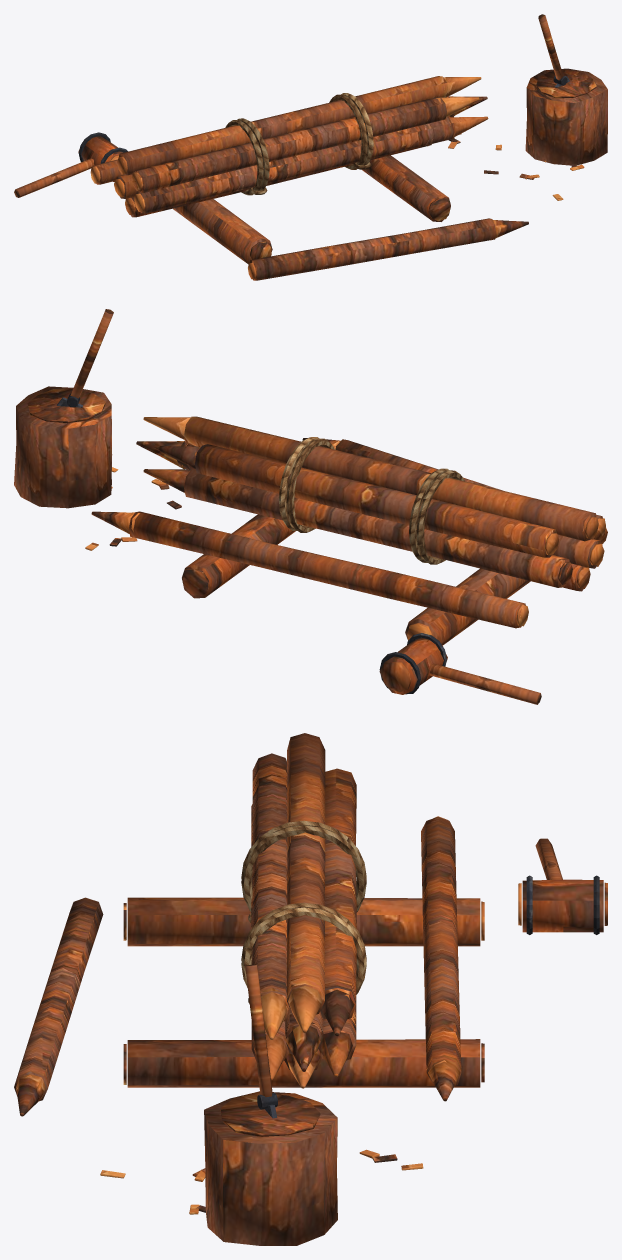
Rendered from ro_stake_bundle.glb.
3 views of the same model, one above another, from view 1: azimuth 30°, elevation 25°; view 2: azimuth 150°, elevation 25°; view 3: azimuth 270°, elevation 25° (orthographic). The views are drawn at different scales.
Parts seen in each view (by area): view 1: model; view 2: model; view 3: model.
Part boxes in pixels (x1,y1,x2,y2): model: [14, 14, 607, 280]; model: [14, 309, 607, 704]; model: [14, 733, 607, 1245].
Size of the model in its own units: 2.63 by 0.7303 by 1.68.
Materials: 14 (14 with a texture image).
